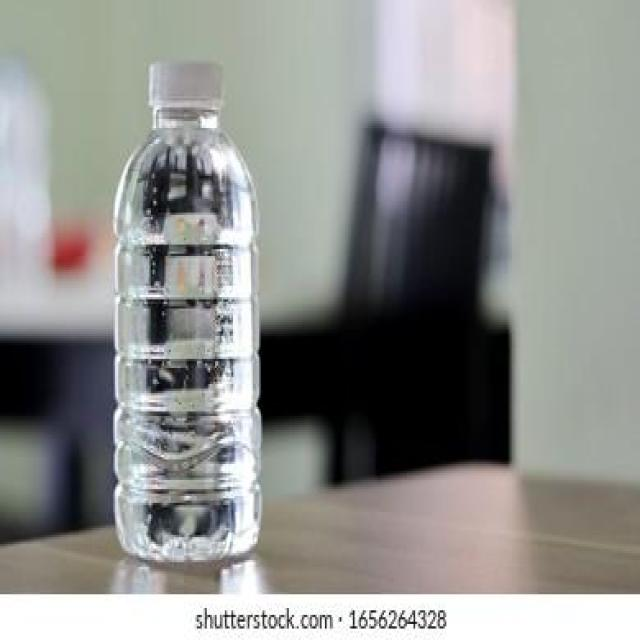bottle: (104, 49, 272, 575)
